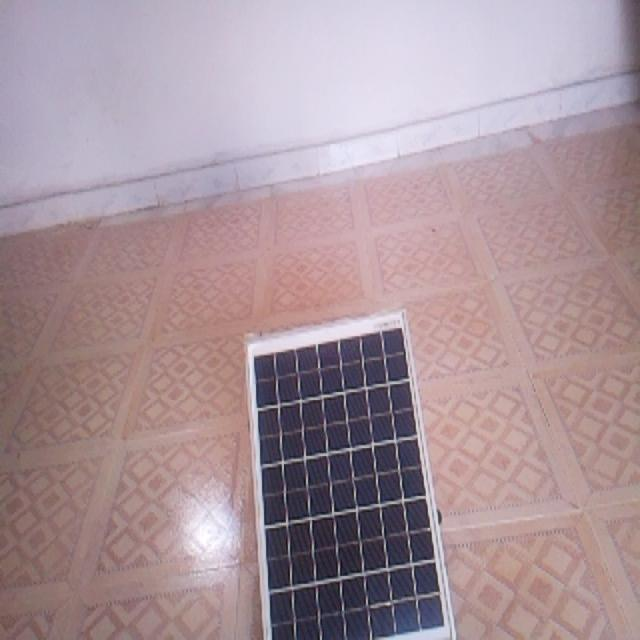Normal Solar Panel: (247, 313, 456, 640)
